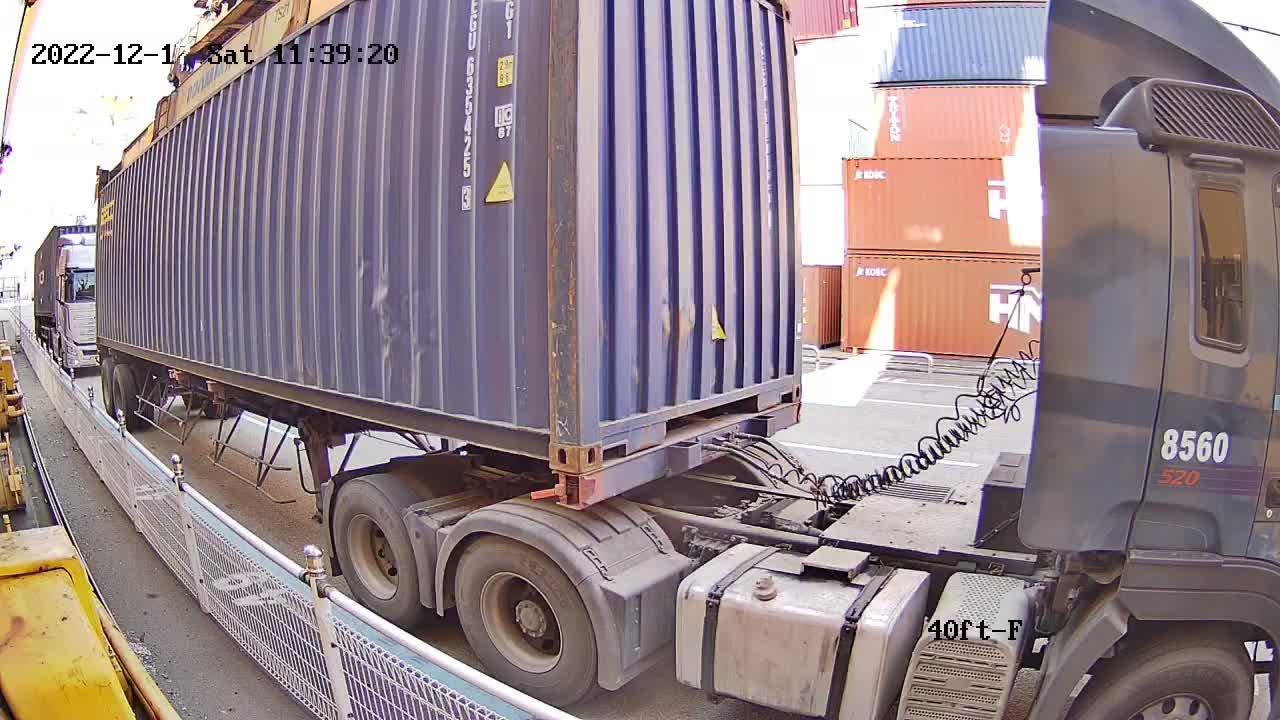Chassis: (587, 403, 803, 509)
Cone: (550, 471, 588, 510)
Hole_L: (579, 412, 626, 471)
Hole_R: (526, 415, 582, 474), (771, 359, 805, 407)
Tire: (456, 538, 596, 707), (332, 484, 419, 619)
